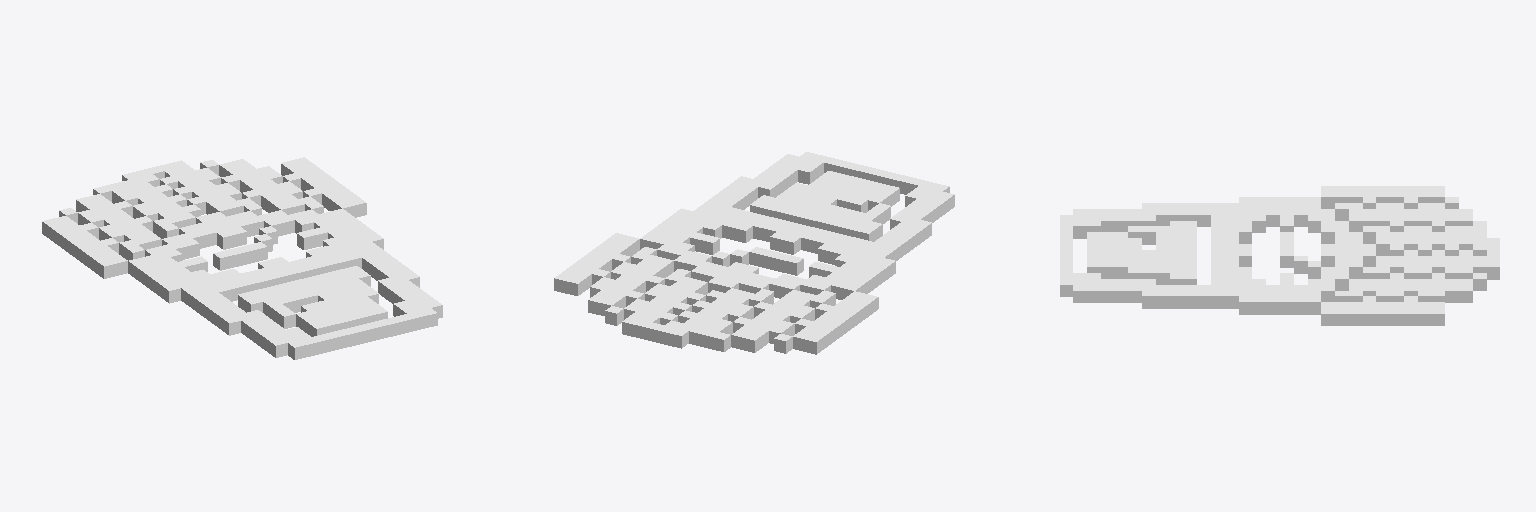
Rendered from Clock-0-clock.obj.
3 renders of one model, left to right at view 1: azimuth 30°, elevation 25°; view 2: azimuth 150°, elevation 25°; view 3: azimuth 270°, elevation 25°, orthographic.
Visible parts, largest first — view 1: clock; view 2: clock; view 3: clock.
Part boxes in pixels (bbox=[...]): clock: bbox=[42, 157, 442, 359]; clock: bbox=[554, 152, 954, 354]; clock: bbox=[1060, 186, 1499, 325].
Bounding box in the file's own units: 2.2 × 0.1 × 3.2.